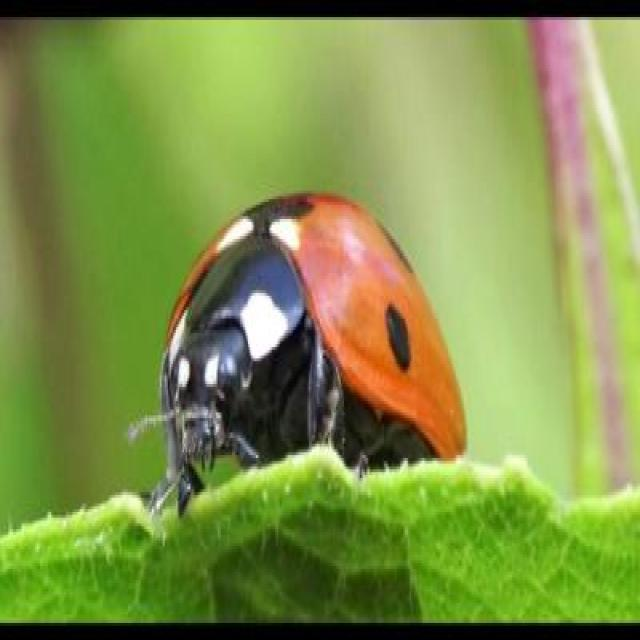antennae: (127, 386, 181, 452), (226, 416, 261, 468)
body: (156, 190, 468, 472)
insect: (128, 185, 470, 528)
mouthpart: (176, 403, 223, 477)
wings: (279, 199, 467, 465), (162, 193, 266, 348)
